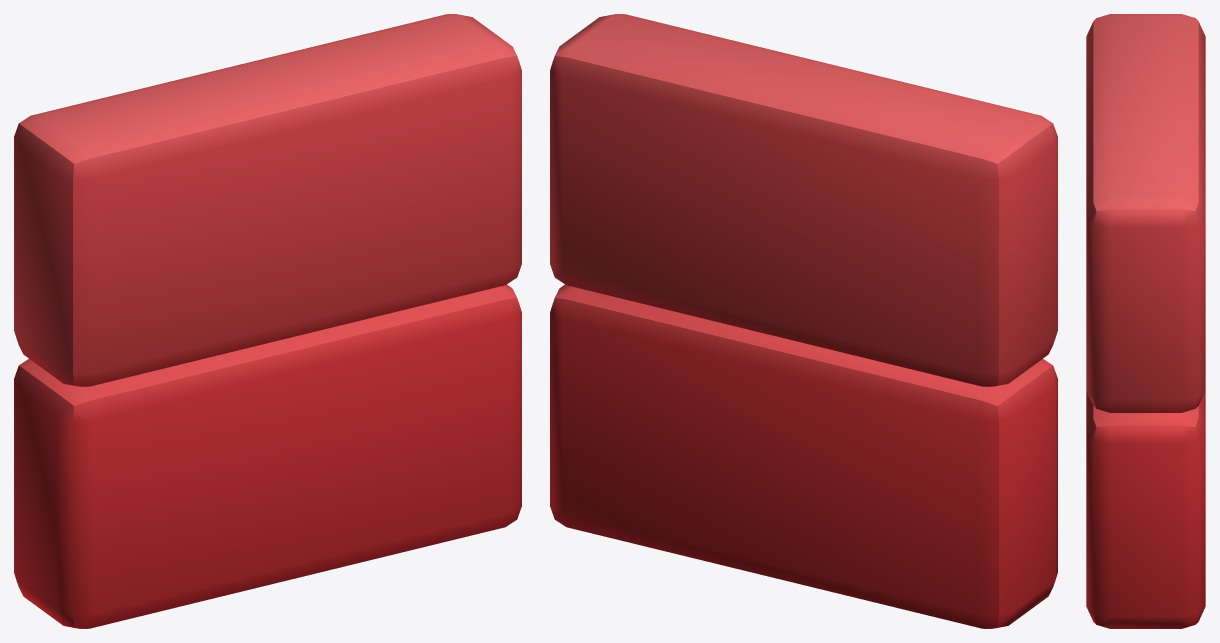
File: kaykit_barrier_4x1x4_red.glb
3 renders of one model, left to right at view 1: azimuth 30°, elevation 25°; view 2: azimuth 150°, elevation 25°; view 3: azimuth 270°, elevation 25°, orthographic. The views are drawn at different scales.
Parts seen in each view (by area): view 1: barrier_4x1x4_red_visual; view 2: barrier_4x1x4_red_visual; view 3: barrier_4x1x4_red_visual.
Boxes of the visible parts, x1=… form: barrier_4x1x4_red_visual: x1=14, y1=14, x2=521, y2=628; barrier_4x1x4_red_visual: x1=550, y1=14, x2=1057, y2=628; barrier_4x1x4_red_visual: x1=1086, y1=14, x2=1205, y2=628.
Size of what is drawn, in the model's own units: 4 by 4 by 1.
Materials: 1 (1 with a texture image).
